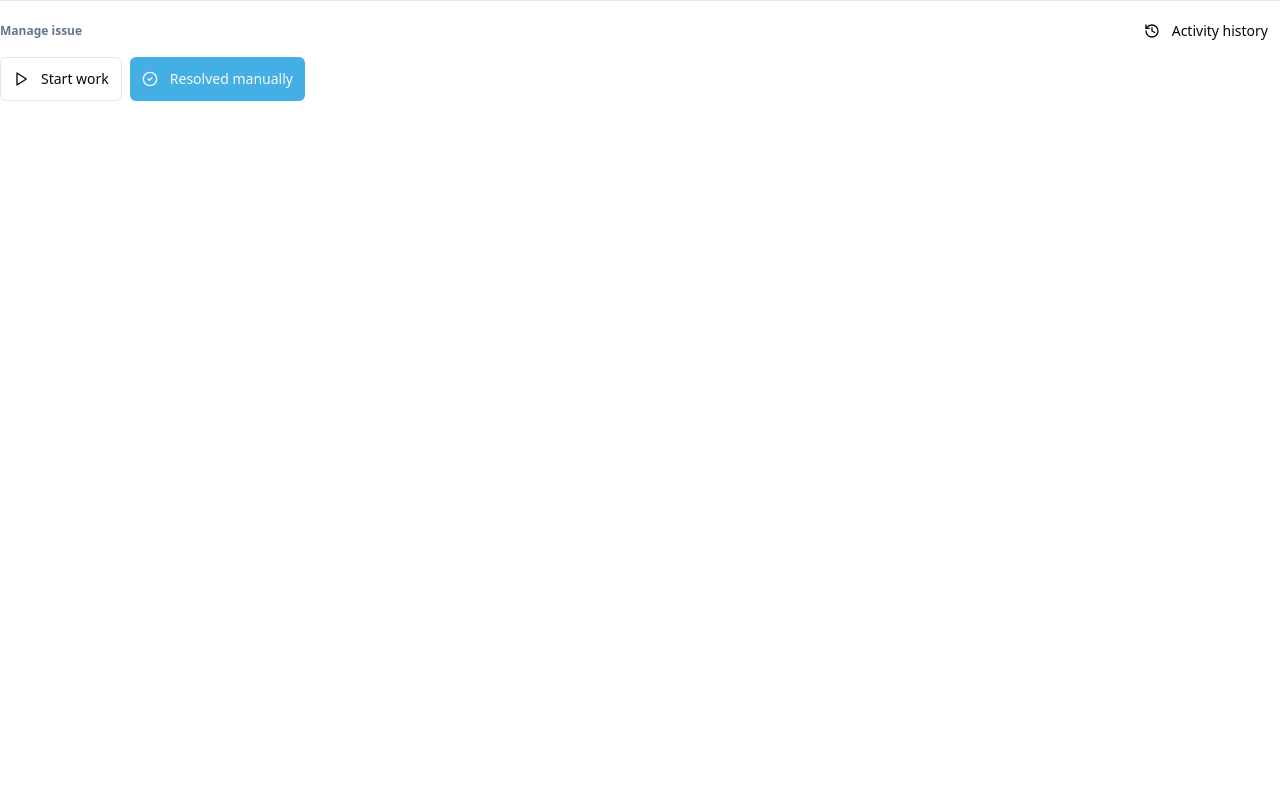
maintenance manager workflow › requires a documented SLA delay for an overdue manual resolution
Step 1. Click the button "Resolved manually" → x=217, y=79, box x1=130 y1=57 x2=305 y2=101
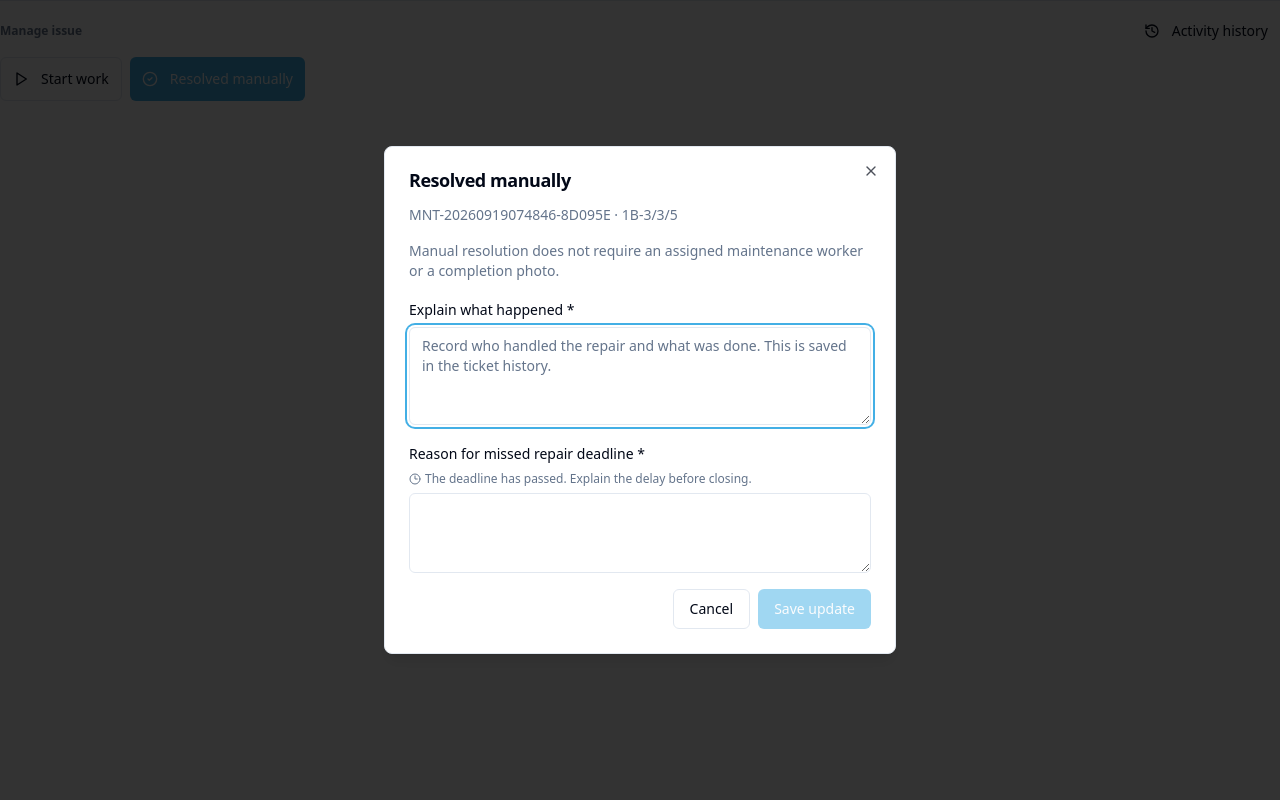
Step 2. Replace the text in the text box labelled "Explain what happened *" with "Curtain replaced" → x=640, y=376, box x1=409 y1=327 x2=871 y2=425
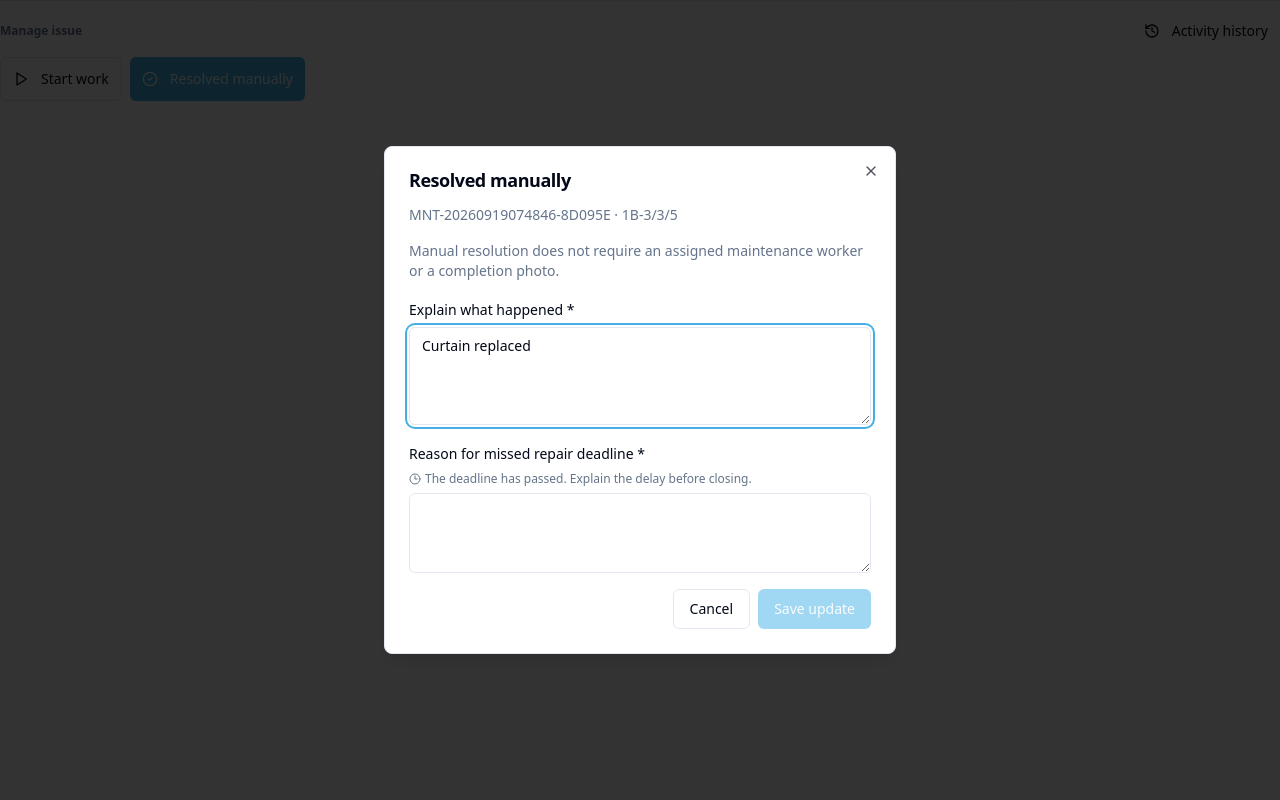
Check: the button "Save update" is disabled, box x1=758 y1=589 x2=871 y2=629
Step 3. Type "Replacement part arrived late" into the text box labelled "Reason for missed repair deadline *" → x=640, y=533, box x1=409 y1=493 x2=871 y2=573
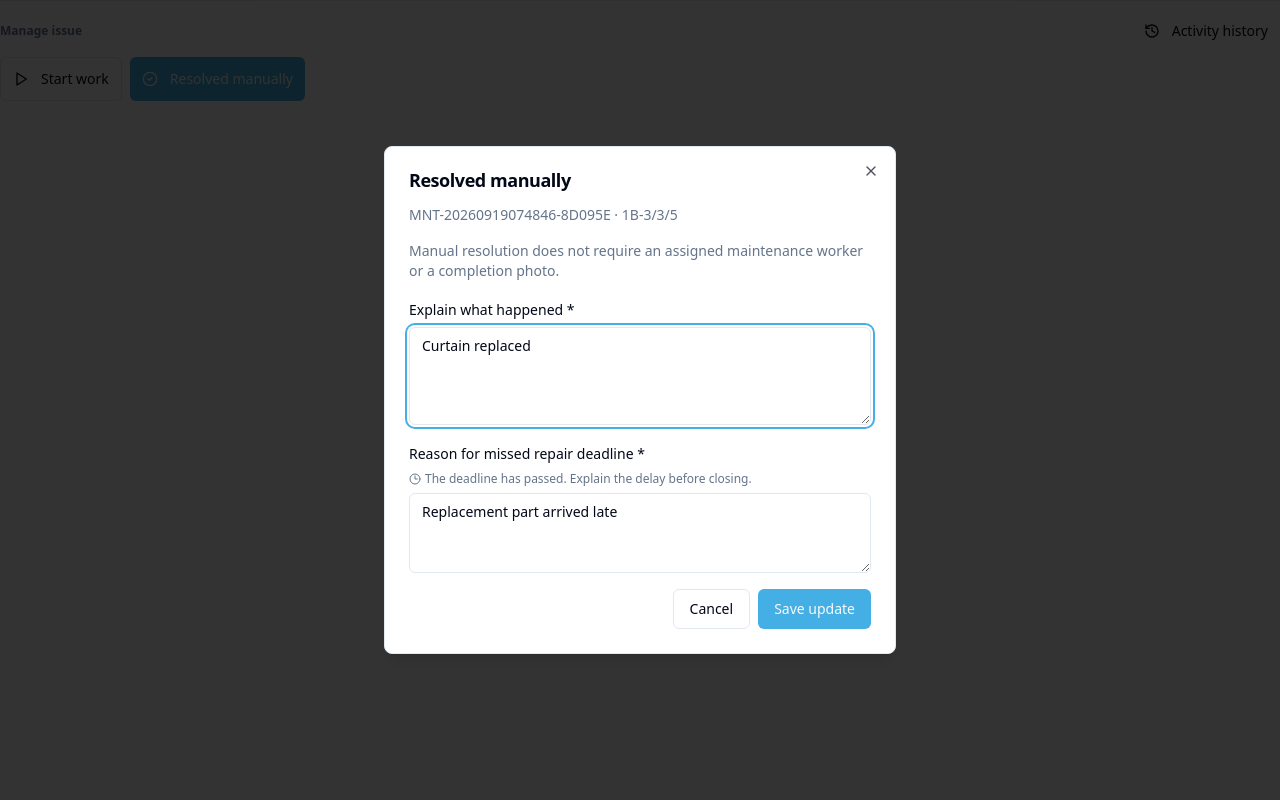
Check: the button "Save update" is enabled, box x1=758 y1=589 x2=871 y2=629
